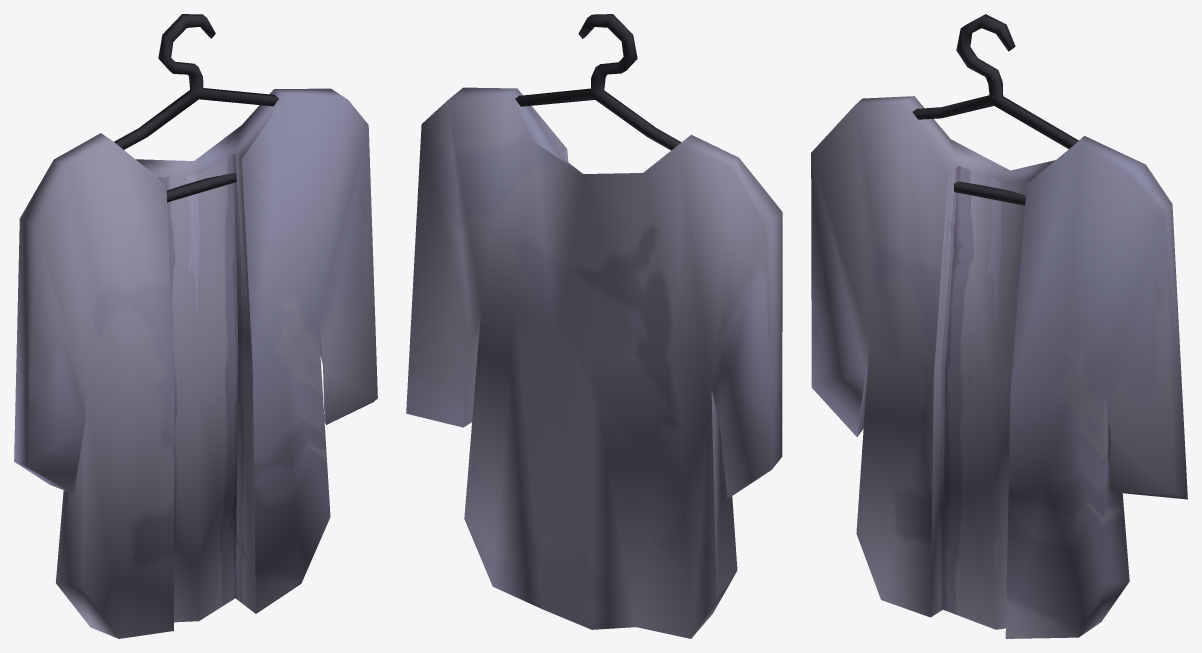
The model's file is SM_PROP_hanger_interior_03.fbx.
3 renders of one model, left to right at view 1: azimuth 30°, elevation 25°; view 2: azimuth 150°, elevation 25°; view 3: azimuth 330°, elevation 25°, orthographic.
Visible parts, largest first — view 1: SM_PROP_hanger_interior_03; view 2: SM_PROP_hanger_interior_03; view 3: SM_PROP_hanger_interior_03.
Part boxes in pixels (<box>): SM_PROP_hanger_interior_03: <box>14,14,377,638</box>; SM_PROP_hanger_interior_03: <box>406,14,782,638</box>; SM_PROP_hanger_interior_03: <box>811,14,1187,638</box>.
Bounding box in the file's own units: 53.74 × 86.8 × 9.3.
